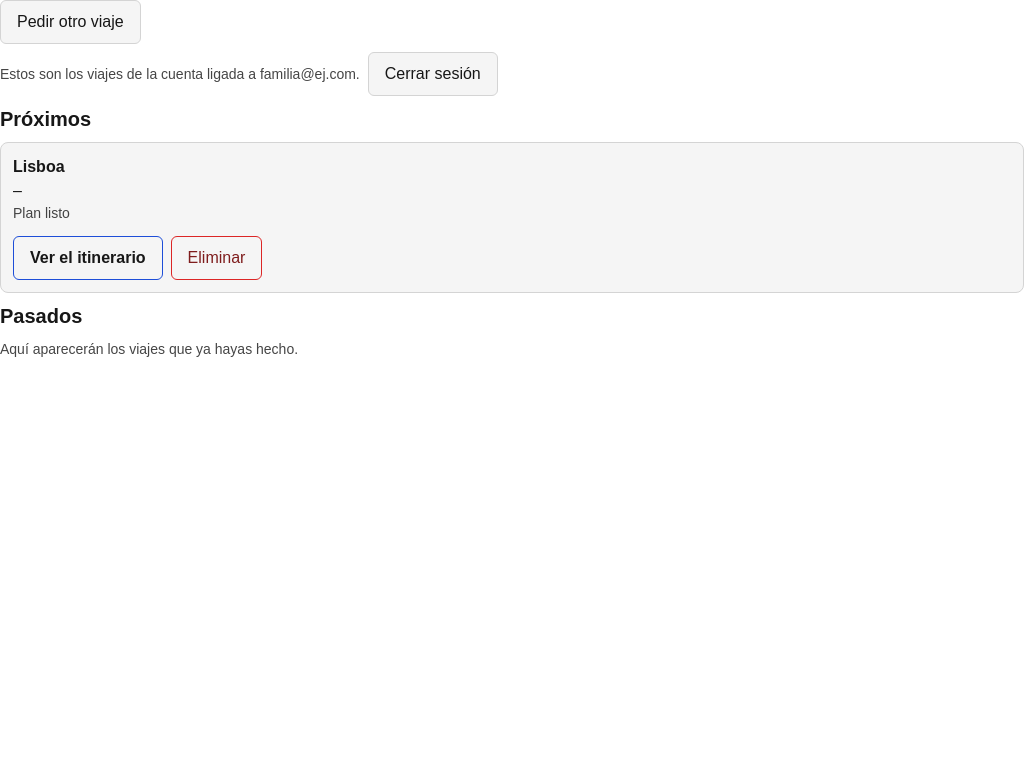
Test case: PanelViajes -- confirmación de borrado (borrar-ac4) › nombra el viaje, explica el efecto sin prometer papelera, y el foco inicial está en Cancelar
Check: the text "Lisboa" is shown, box [13,158,65,175]
Click the button "Eliminar" at (216, 258), box [171,236,262,280]
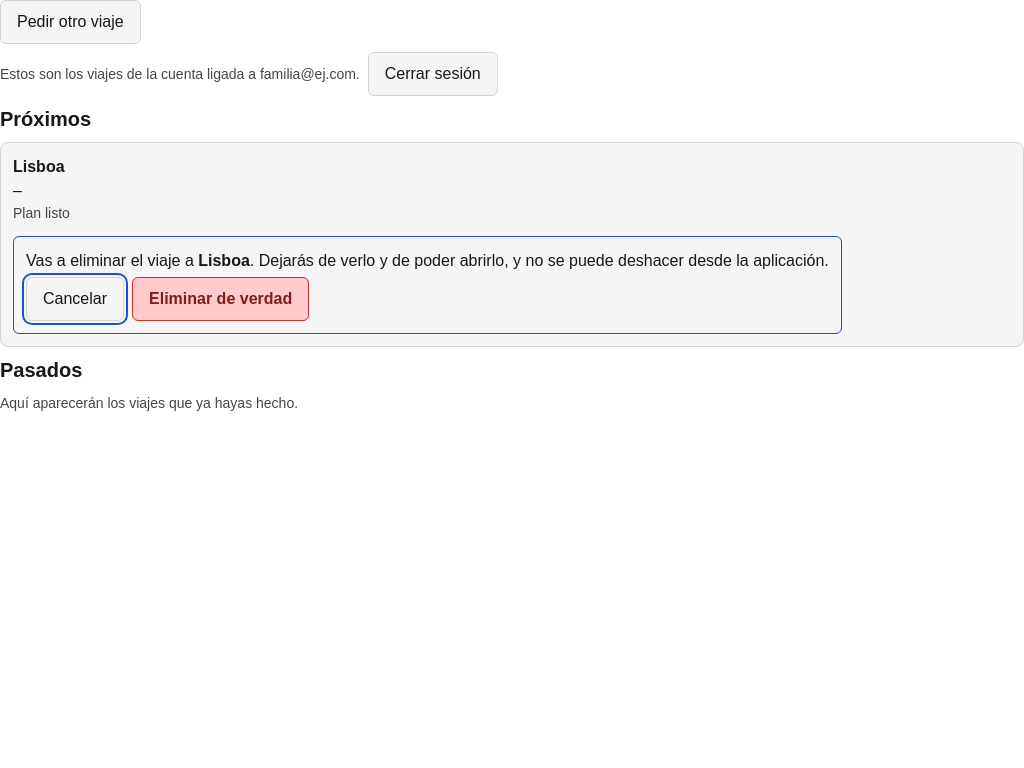
Check: the dialog "Lisboa" shows "no se puede deshacer desde la aplicación", box [250,252,829,269]
